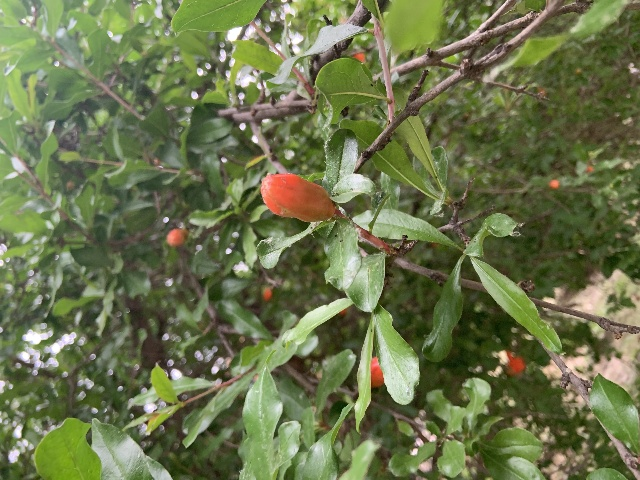bud: (260, 172, 336, 222), (370, 356, 384, 389), (166, 228, 188, 246)
flower: (505, 351, 526, 373)
